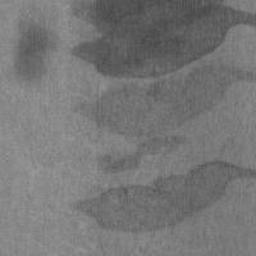Oil spot: (70, 0, 256, 174), (74, 160, 256, 233), (13, 18, 60, 93)
